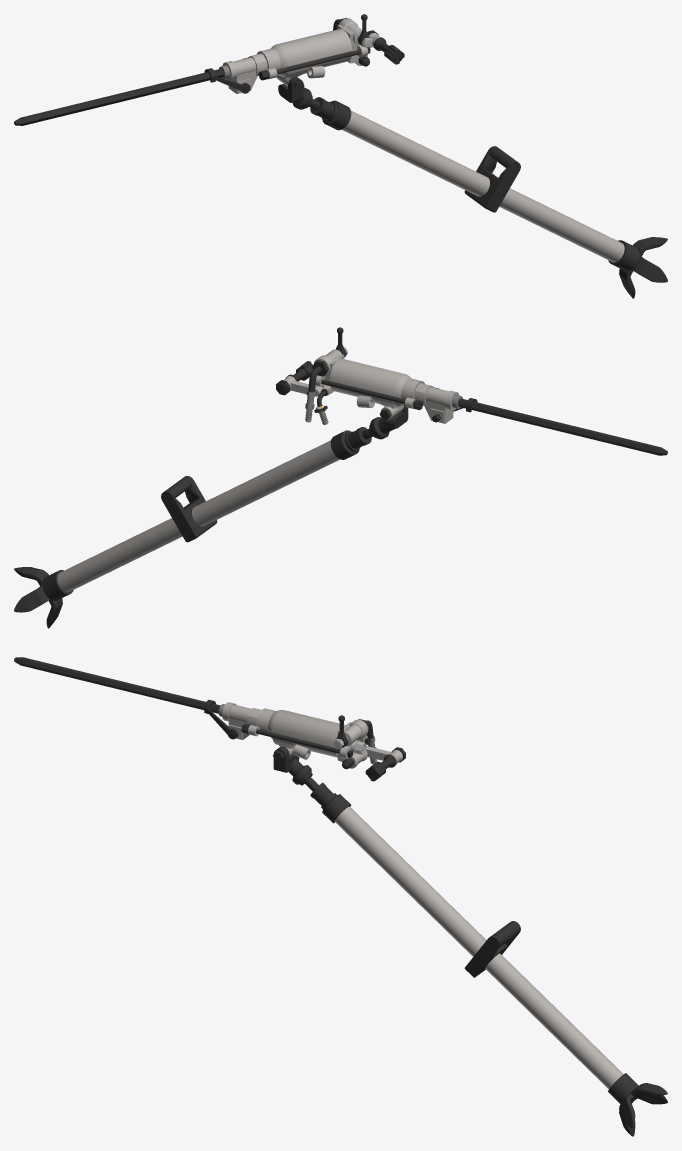
File: perforadora.fbx
3 views of the same model, one above another, from view 1: azimuth 30°, elevation 25°; view 2: azimuth 150°, elevation 25°; view 3: azimuth 330°, elevation 25° (orthographic).
Visible parts, largest first — view 1: Cylinder, Cylinder.001, Cylinder.004, Cylinder.036, Cube.004, Cube.001, Cylinder.010; view 2: Cylinder, Cylinder.001, Cylinder.004, Cylinder.036, Cube.004, Cube.003; view 3: Cylinder, Cylinder.001, Cylinder.004, Cylinder.036, Cube.004.
Boxes of the visible parts, x1=… form: Cylinder: x1=310, y1=97, x2=489, y2=196; Cylinder.001: x1=499, y1=188, x2=639, y2=271; Cylinder.004: x1=222, y1=28, x2=352, y2=80; Cylinder.036: x1=14, y1=69, x2=223, y2=125; Cube.004: x1=464, y1=146, x2=520, y2=212; Cube.001: x1=632, y1=255, x2=667, y2=282; Cylinder.010: x1=268, y1=50, x2=360, y2=75; Cylinder: x1=192, y1=427, x2=371, y2=526; Cylinder.001: x1=42, y1=518, x2=182, y2=600; Cylinder.004: x1=329, y1=358, x2=459, y2=410; Cylinder.036: x1=458, y1=398, x2=667, y2=455; Cube.004: x1=161, y1=476, x2=217, y2=542; Cube.003: x1=14, y1=585, x2=49, y2=612; Cylinder: x1=310, y1=782, x2=486, y2=956; Cylinder.001: x1=485, y1=953, x2=638, y2=1103; Cylinder.004: x1=222, y1=702, x2=345, y2=757; Cylinder.036: x1=14, y1=657, x2=220, y2=713; Cube.004: x1=464, y1=921, x2=520, y2=977.
Size of the model in its own units: 222 by 117 by 23.29.
5 materials, 1 textured.
